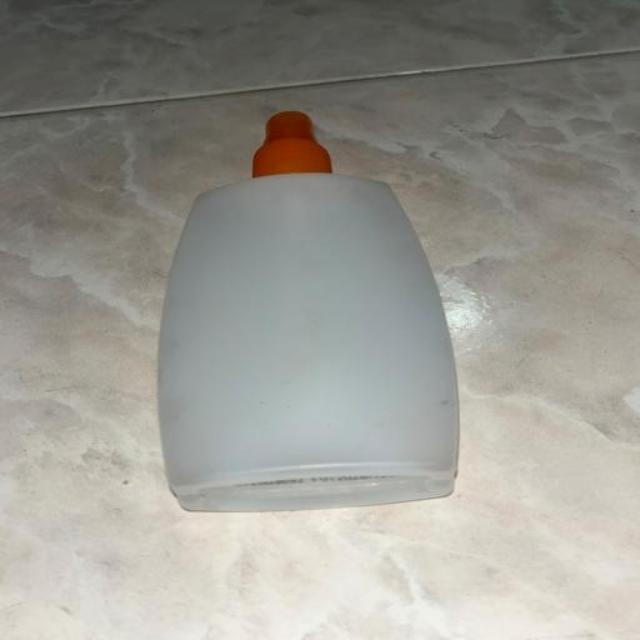HDPE: (60, 74, 548, 595)
